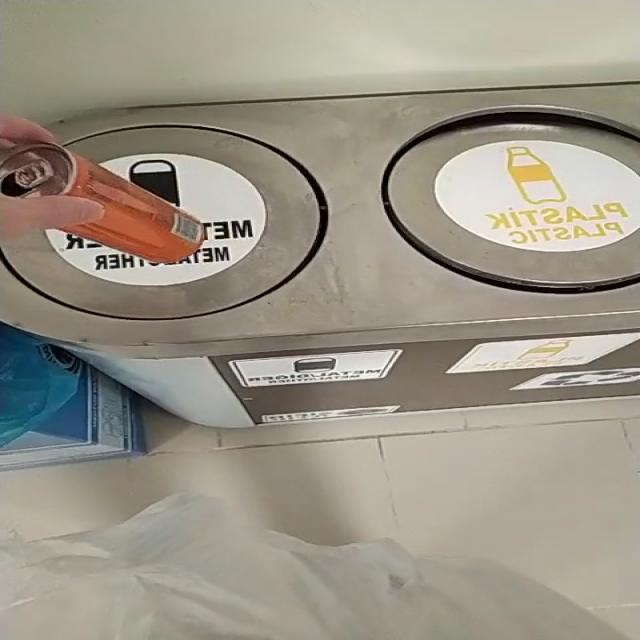bin: (1, 84, 640, 428)
metal: (0, 143, 204, 264)
